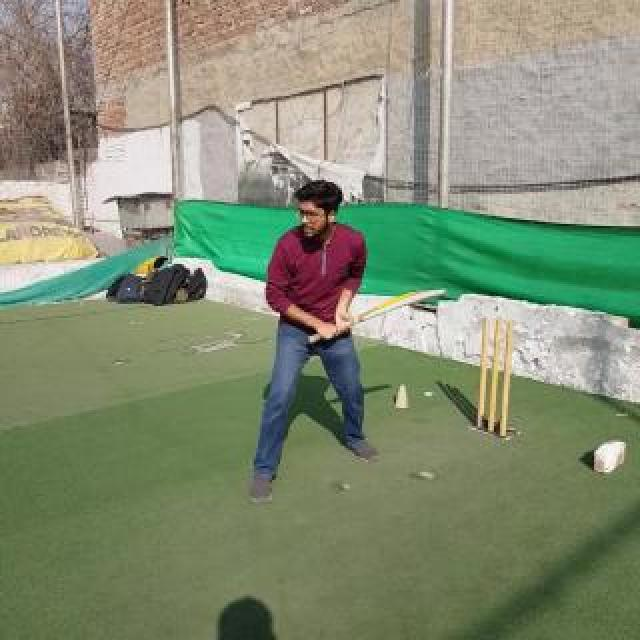bat: (308, 288, 446, 342)
